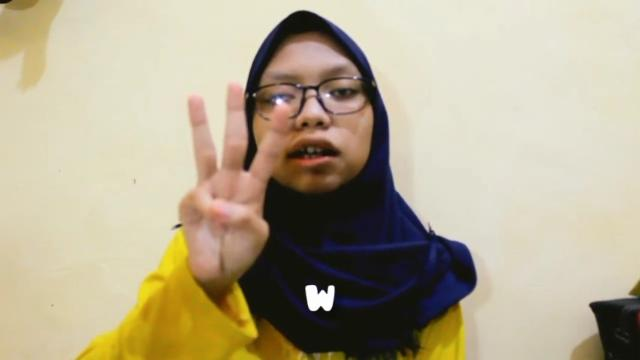W: (176, 80, 290, 284)
